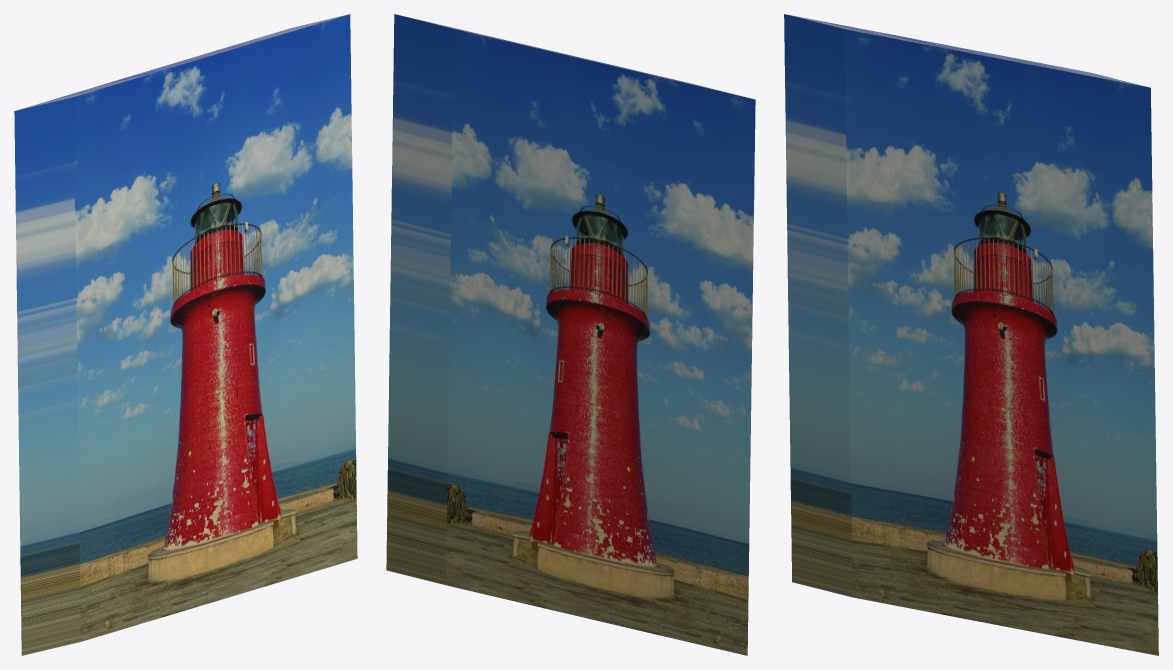
File: 4quadro-verticale-40x60.glb
3 renders of one model, left to right at view 1: azimuth 30°, elevation 25°; view 2: azimuth 150°, elevation 25°; view 3: azimuth 330°, elevation 25°, orthographic. The views are drawn at different scales.
Visible parts, largest first — view 1: Plane; view 2: Plane; view 3: Plane.
Boxes of the visible parts, x1,y1,x2,y2 form: Plane: (14, 14, 357, 655); Plane: (386, 14, 755, 655); Plane: (784, 14, 1158, 655).
Bounding box in the file's own units: 0.4 × 0.6 × 0.02.
Materials: 1 (1 with a texture image).
